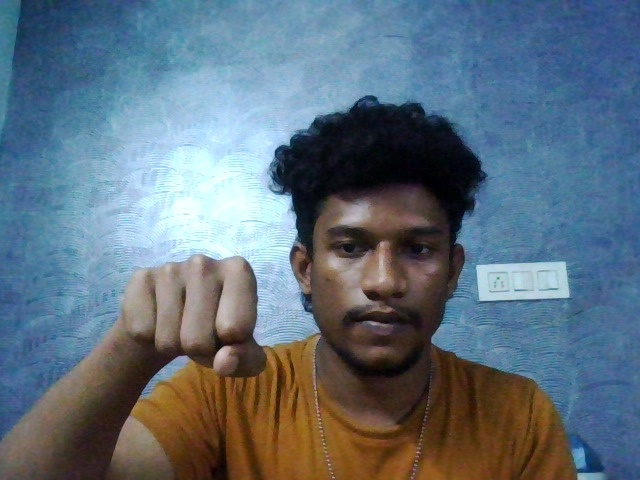yes: (114, 237, 282, 405)
